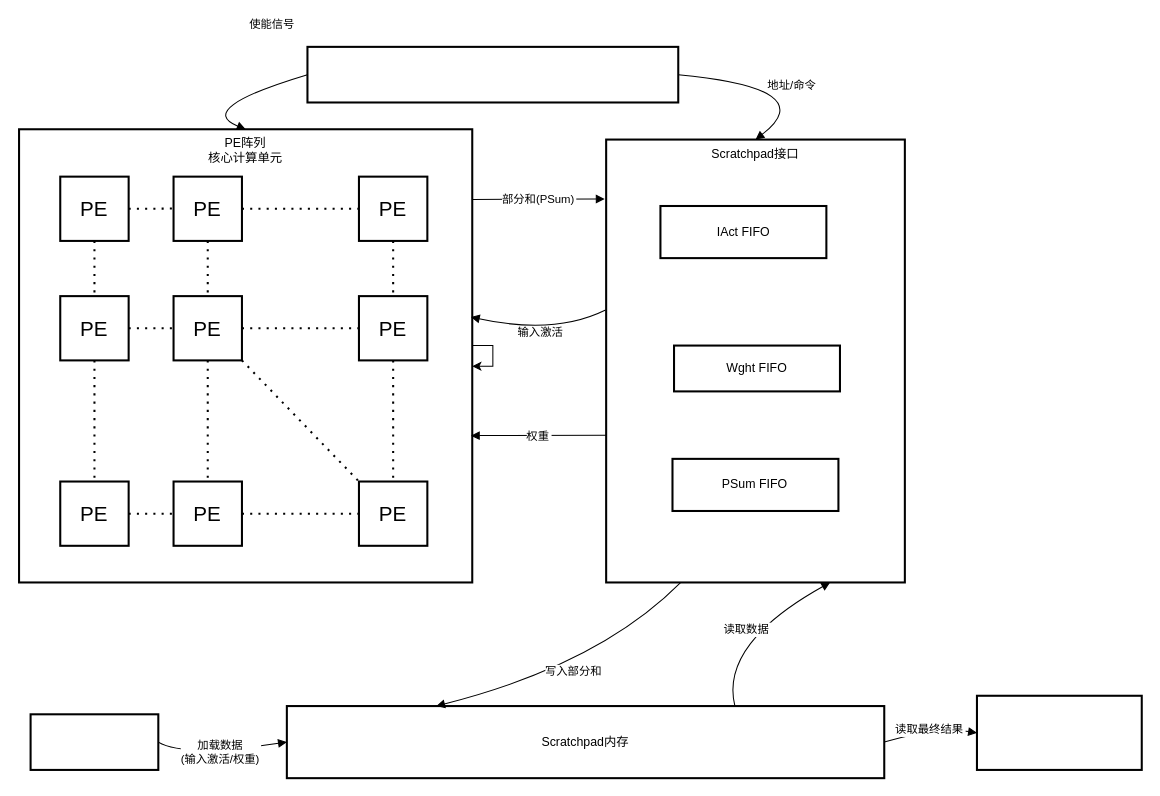
This 1160x796 diagram has some shape labels left out. Each missing label, with the centre of its shape:
外部内存: the point at 94,741
控制地址生成器: the point at 492,74
输出结果: the point at 1058,732
